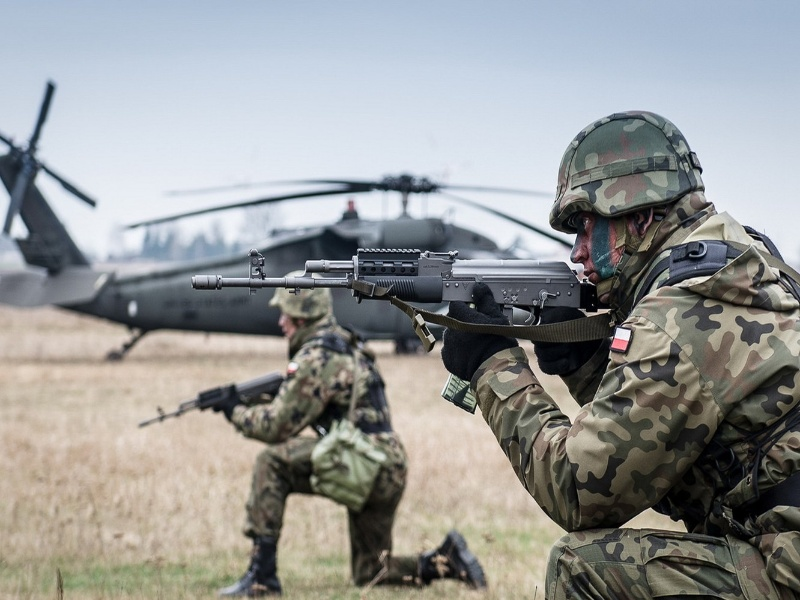person: (443, 110, 800, 600), (226, 268, 490, 596), (342, 199, 359, 220)
weapon: (192, 247, 600, 413), (138, 373, 286, 430)
